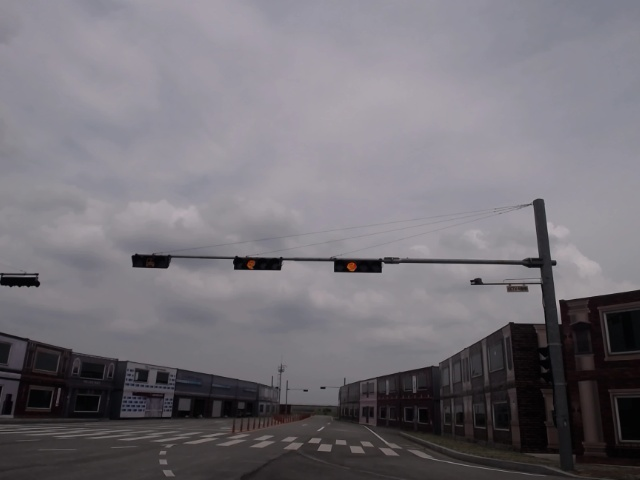orange_4: (333, 259, 384, 275), (232, 257, 283, 272)
